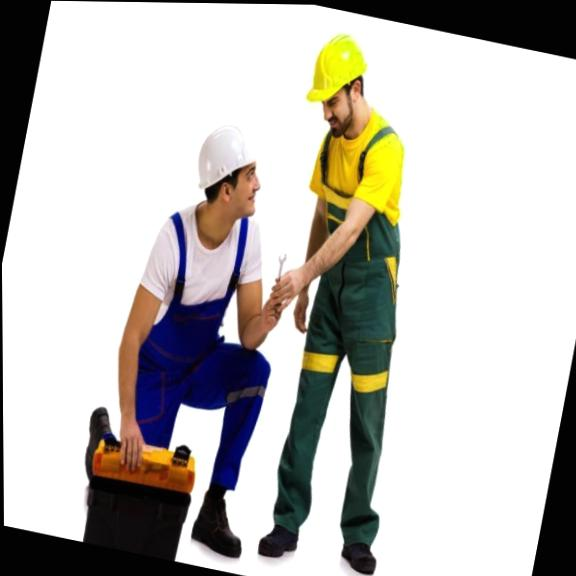no_safety_vest: (128, 200, 259, 393)
